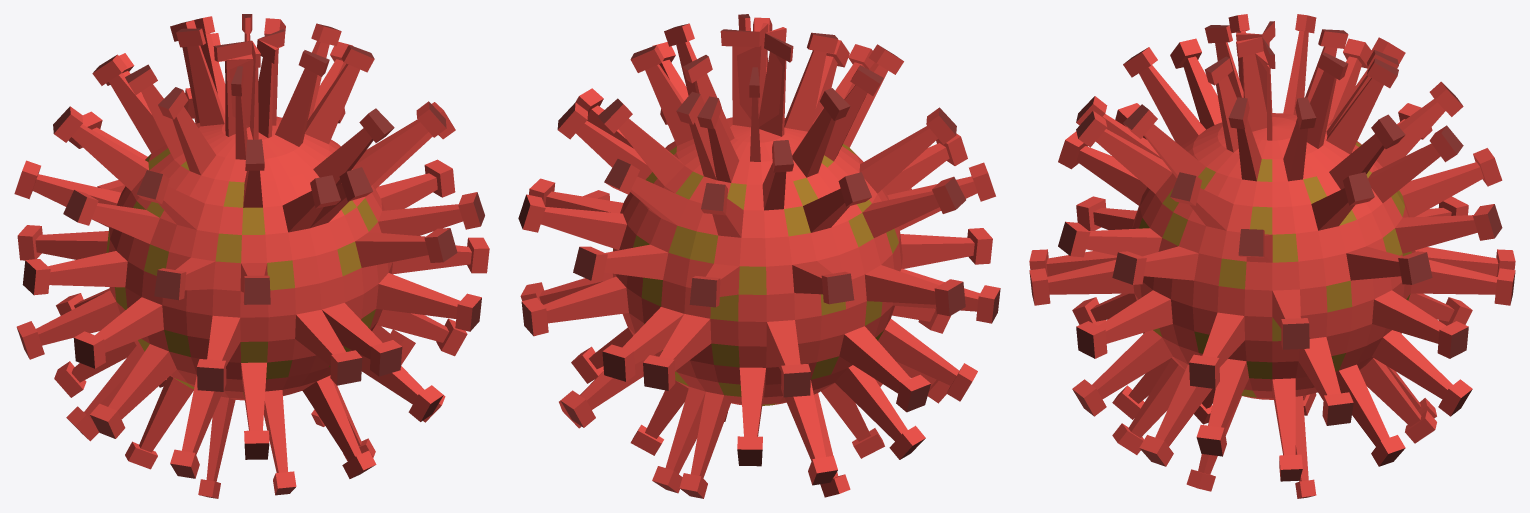
Rendered from covid.fbx.
3 views of the same model, side by side, from view 1: azimuth 30°, elevation 25°; view 2: azimuth 150°, elevation 25°; view 3: azimuth 270°, elevation 25° (orthographic).
Visible parts, largest first — view 1: Sphere; view 2: Sphere; view 3: Sphere.
Part boxes in pixels (x1=…): Sphere: x1=14, y1=14, x2=489, y2=498; Sphere: x1=518, y1=14, x2=1000, y2=498; Sphere: x1=1029, y1=14, x2=1515, y2=498.
Size of the model in its own units: 339 by 324 by 339.
